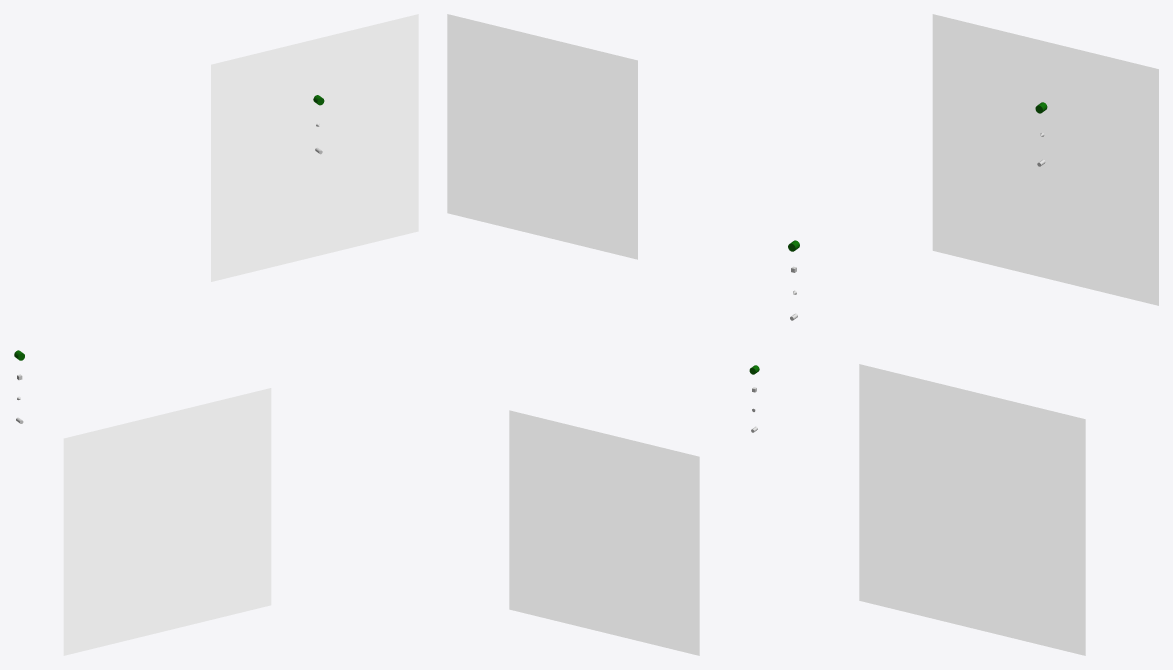
Rendered from nmap.glb.
The picture shows the model from 3 angles, left to right: view 1: azimuth 30°, elevation 25°; view 2: azimuth 150°, elevation 25°; view 3: azimuth 330°, elevation 25°; orthographic projection. The views are drawn at different scales.
Visible parts, largest first — view 1: floor, floor.001; view 2: floor.001, floor; view 3: floor, floor.001.
Part boxes in pixels (bbox=[...]): floor: bbox=[63, 388, 271, 655]; floor.001: bbox=[211, 14, 418, 281]; floor.001: bbox=[447, 14, 637, 259]; floor: bbox=[509, 410, 699, 655]; floor: bbox=[859, 364, 1085, 655]; floor.001: bbox=[932, 14, 1158, 305].
Size of the model in its own units: 53.5 by 82 by 11.5.
Materials: 2 (2 with a texture image).
